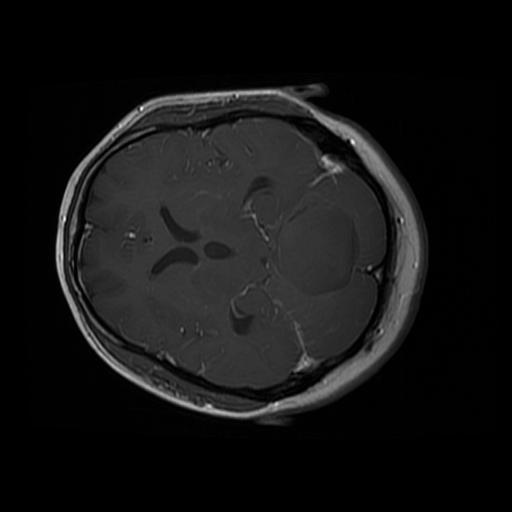glioma: (274, 207, 356, 287)
